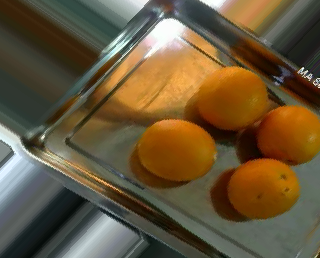Orange: (135, 117, 216, 181), (197, 66, 267, 132), (227, 158, 300, 218), (255, 105, 320, 167)
